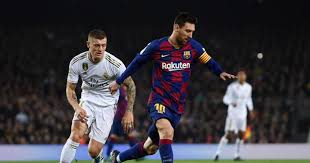barcelona: (113, 15, 229, 163)
realmadrid: (52, 33, 128, 163), (219, 68, 257, 163)
